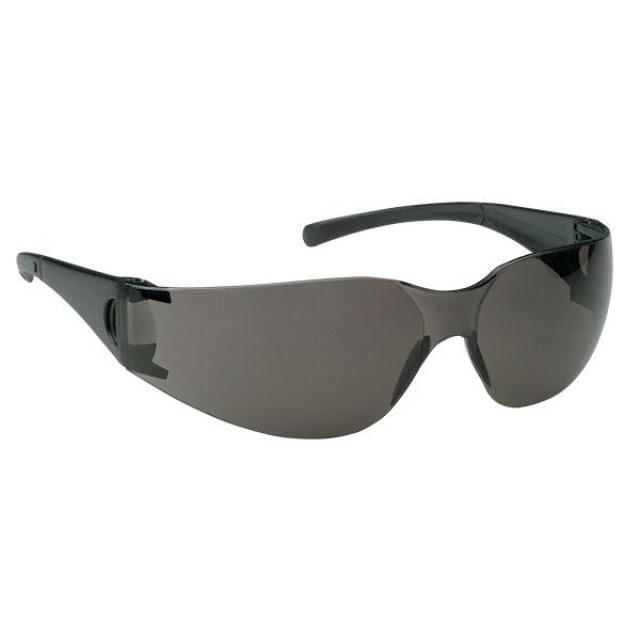Protective Glasses: (2, 184, 636, 452)
